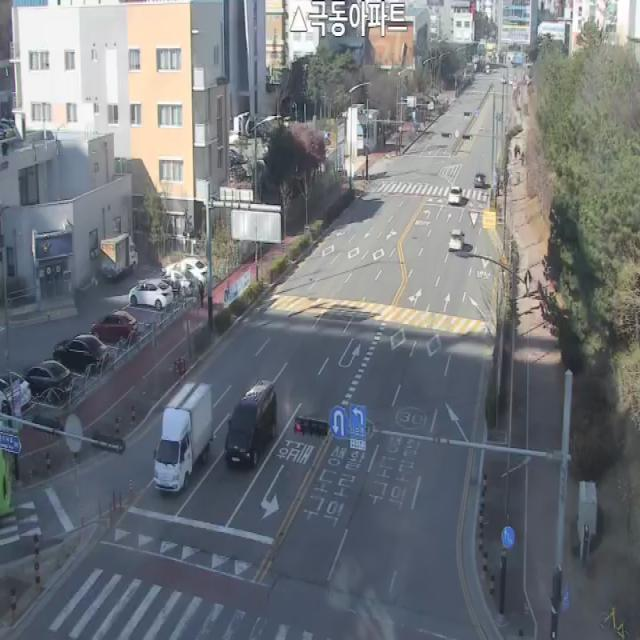Car: (153, 383, 213, 494), (225, 379, 276, 470), (53, 333, 108, 375), (21, 359, 71, 399), (100, 232, 138, 281), (91, 309, 137, 344), (129, 277, 173, 310), (0, 371, 31, 414), (162, 257, 207, 286), (162, 270, 202, 298), (448, 229, 465, 252), (448, 186, 462, 204), (474, 172, 486, 189)
